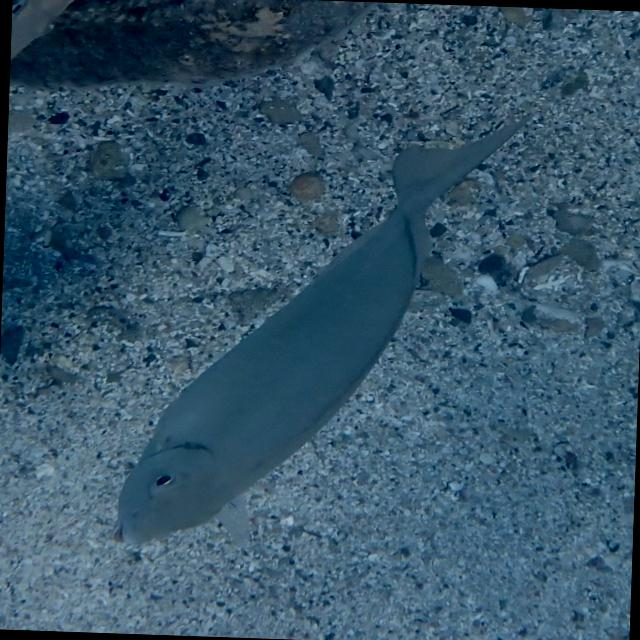Sokar Baligi: (100, 94, 534, 562)
